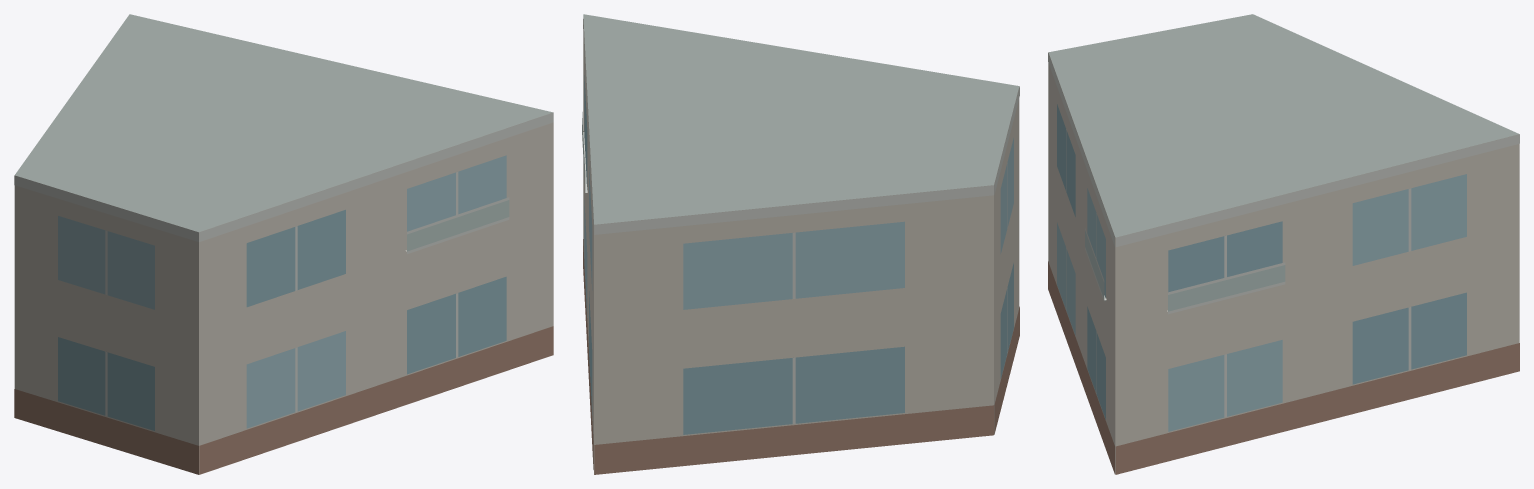
The model's file is survey-upis-32951148.glb.
3 views of the same model, side by side, from view 1: azimuth 30°, elevation 25°; view 2: azimuth 150°, elevation 25°; view 3: azimuth 270°, elevation 25° (orthographic). The views are drawn at different scales.
Parts seen in each view (by area): view 1: survey-upis-32951148.tmp; view 2: survey-upis-32951148.tmp; view 3: survey-upis-32951148.tmp.
Part boxes in pixels (x1,y1,x2,y2): survey-upis-32951148.tmp: (14,14,553,474); survey-upis-32951148.tmp: (582,14,1019,474); survey-upis-32951148.tmp: (1048,14,1519,474).
Bounding box in the file's own units: 8.91 × 4.4 × 7.94.
